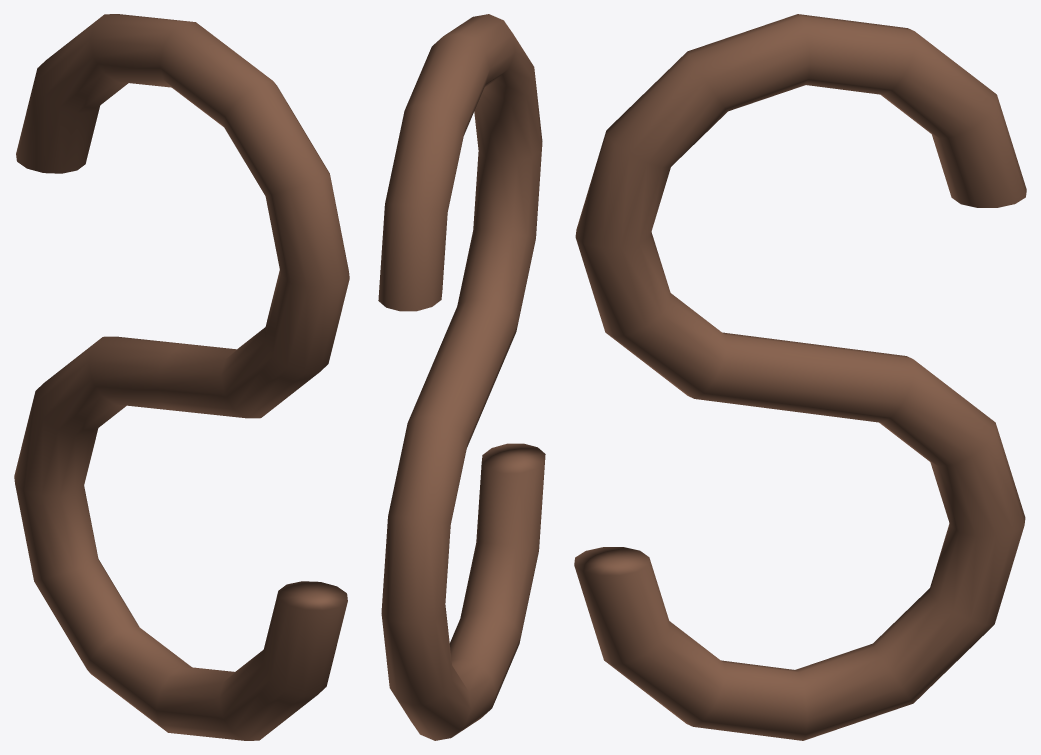
Rendered from Kitchen_set_Kitchen_set_Kitchen_set_Props_grp_Kitchen_set_North_grp_Kitchen_set_NorthWall_grp_Kitchen_set_Hook_6.obj.
The picture shows the model from 3 angles, left to right: view 1: azimuth 30°, elevation 25°; view 2: azimuth 150°, elevation 25°; view 3: azimuth 270°, elevation 25°; orthographic projection. The views are drawn at different scales.
Parts seen in each view (by area): view 1: Kitchen_set_Hook1 NCCA_Export; view 2: Kitchen_set_Hook1 NCCA_Export; view 3: Kitchen_set_Hook1 NCCA_Export.
Part boxes in pixels (x1=…): Kitchen_set_Hook1 NCCA_Export: x1=14, y1=14, x2=349, y2=740; Kitchen_set_Hook1 NCCA_Export: x1=378, y1=14, x2=545, y2=740; Kitchen_set_Hook1 NCCA_Export: x1=574, y1=14, x2=1026, y2=740.
Bounding box in the file's own units: 0.2064 × 1 × 0.5664.
